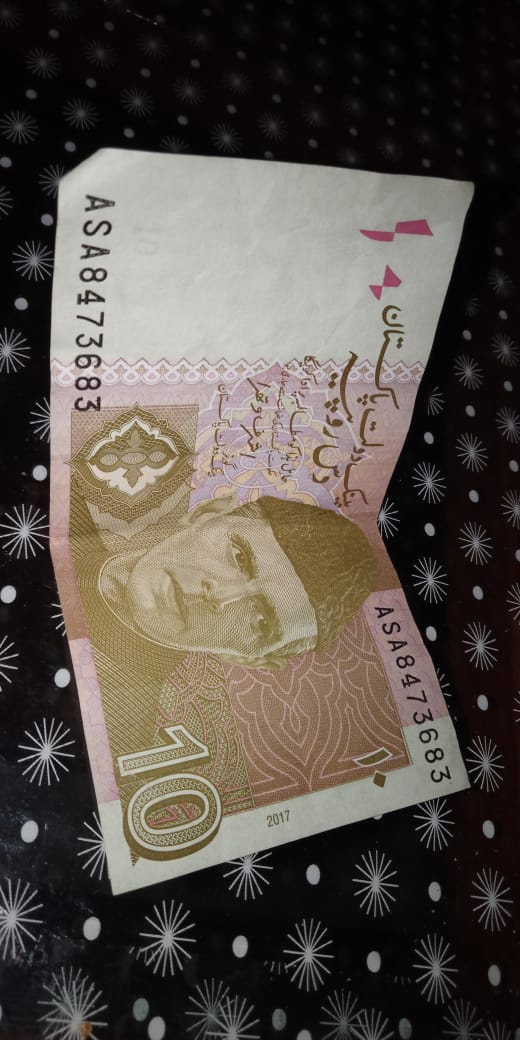10 rupee: (50, 144, 481, 963)
